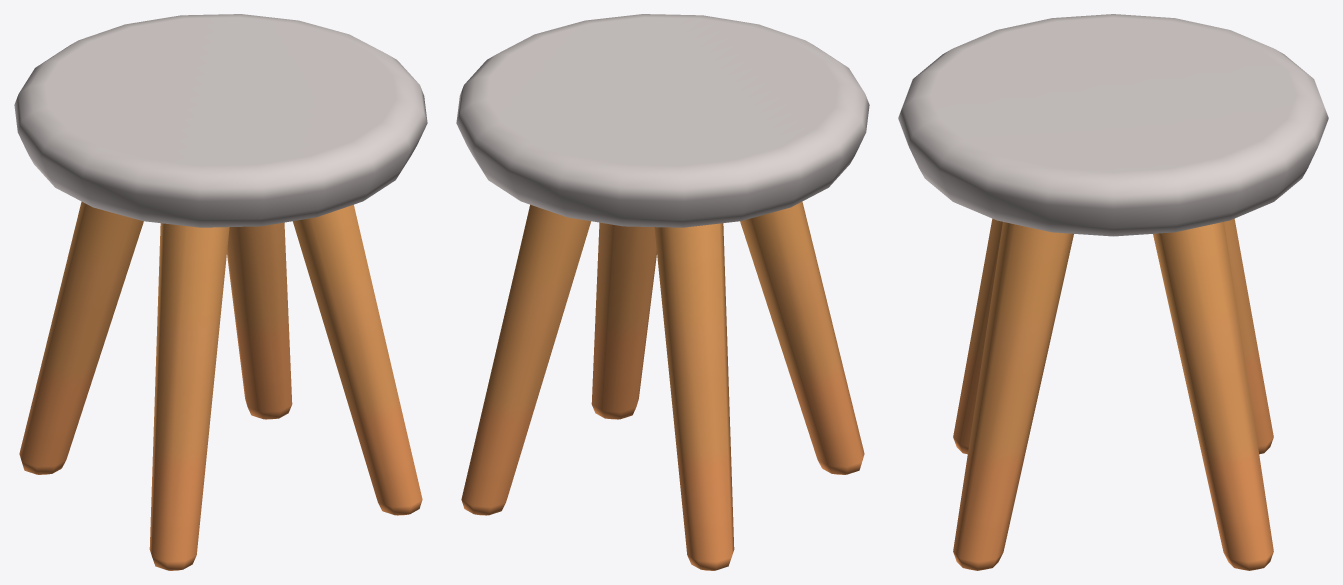
Rendered from Coffee_Table_10.glb.
The picture shows the model from 3 angles, left to right: view 1: azimuth 30°, elevation 25°; view 2: azimuth 150°, elevation 25°; view 3: azimuth 270°, elevation 25°; orthographic projection. The views are drawn at different scales.
Parts seen in each view (by area): view 1: Coffee_Table_10; view 2: Coffee_Table_10; view 3: Coffee_Table_10.
Boxes of the visible parts, x1,y1,x2,y2 form: Coffee_Table_10: [14, 14, 427, 570]; Coffee_Table_10: [456, 14, 869, 570]; Coffee_Table_10: [898, 14, 1328, 570].
Size of the model in its own units: 0.4732 by 0.5017 by 0.4732.
Materials: 1 (1 with a texture image).
